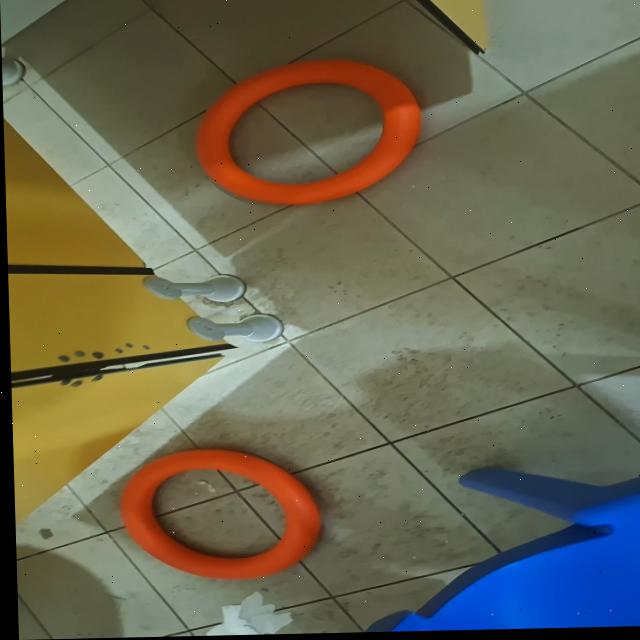note: (191, 58, 424, 209), (115, 446, 322, 583)
